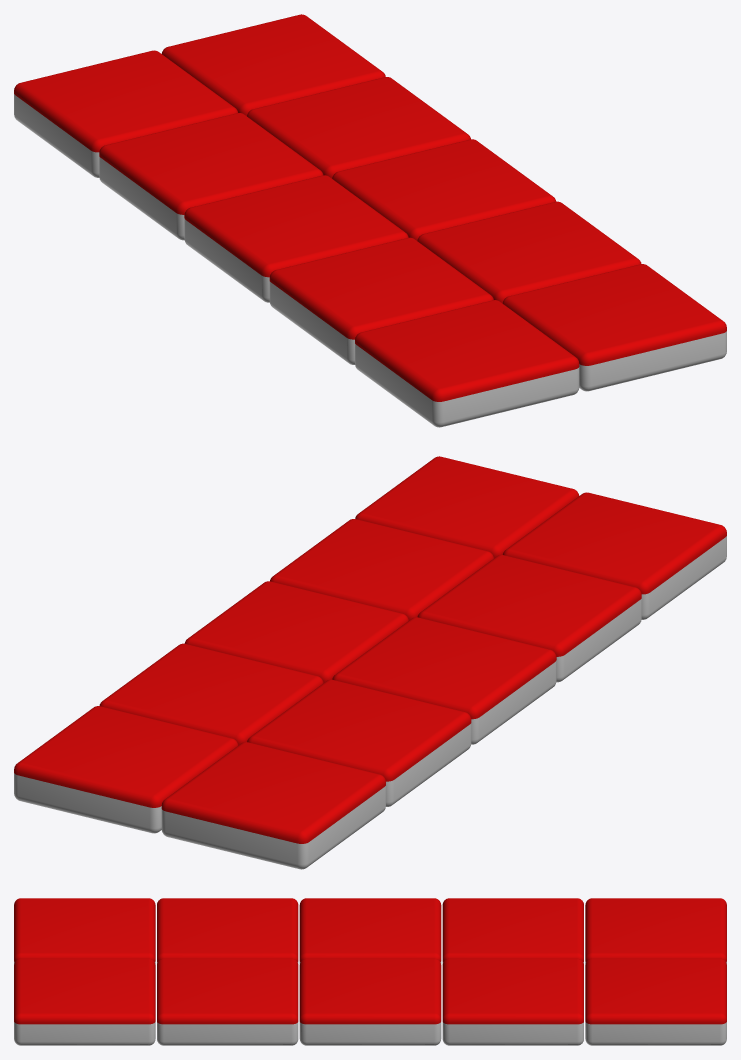
Rendered from platforms2.fbx.
3 renders of one model, top to bottom at view 1: azimuth 30°, elevation 25°; view 2: azimuth 150°, elevation 25°; view 3: azimuth 270°, elevation 25°, orthographic. The views are drawn at different scales.
Visible parts, largest first — view 1: ChamferBox020, ChamferBox012, ChamferBox022, ChamferBox023, ChamferBox021, ChamferBox024, ChamferBox016, ChamferBox019, ChamferBox018, ChamferBox017; view 2: ChamferBox024, ChamferBox019, ChamferBox022, ChamferBox021, ChamferBox023, ChamferBox020, ChamferBox018, ChamferBox012, ChamferBox016, ChamferBox017; view 3: ChamferBox017, ChamferBox012, ChamferBox019, ChamferBox016, ChamferBox018, ChamferBox022, ChamferBox020, ChamferBox024, ChamferBox021, ChamferBox023.
Part boxes in pixels (bbox=[...]): ChamferBox020: bbox=[355, 300, 579, 427]; ChamferBox012: bbox=[502, 264, 726, 391]; ChamferBox022: bbox=[184, 175, 408, 302]; ChamferBox023: bbox=[99, 113, 323, 240]; ChamferBox021: bbox=[269, 237, 493, 364]; ChamferBox024: bbox=[14, 50, 237, 177]; ChamferBox016: bbox=[417, 201, 641, 303]; ChamferBox019: bbox=[161, 14, 385, 115]; ChamferBox018: bbox=[247, 77, 470, 178]; ChamferBox017: bbox=[332, 139, 556, 240]; ChamferBox024: bbox=[161, 742, 385, 869]; ChamferBox019: bbox=[14, 706, 238, 833]; ChamferBox022: bbox=[332, 617, 556, 744]; ChamferBox021: bbox=[417, 555, 641, 682]; ChamferBox023: bbox=[247, 679, 471, 806]; ChamferBox020: bbox=[503, 492, 726, 619]; ChamferBox018: bbox=[99, 643, 323, 745]; ChamferBox012: bbox=[355, 456, 579, 557]; ChamferBox016: bbox=[270, 519, 493, 620]; ChamferBox017: bbox=[184, 581, 408, 682]; ChamferBox017: bbox=[299, 958, 441, 1045]; ChamferBox012: bbox=[14, 958, 155, 1045]; ChamferBox019: bbox=[585, 958, 726, 1045]; ChamferBox016: bbox=[157, 958, 298, 1045]; ChamferBox018: bbox=[442, 958, 583, 1045]; ChamferBox022: bbox=[299, 898, 441, 964]; ChamferBox020: bbox=[14, 898, 155, 964]; ChamferBox024: bbox=[585, 898, 726, 964]; ChamferBox021: bbox=[157, 898, 298, 963]; ChamferBox023: bbox=[442, 898, 583, 963].
Bounding box in the file's own units: 20.09 × 2.5 × 50.36.
